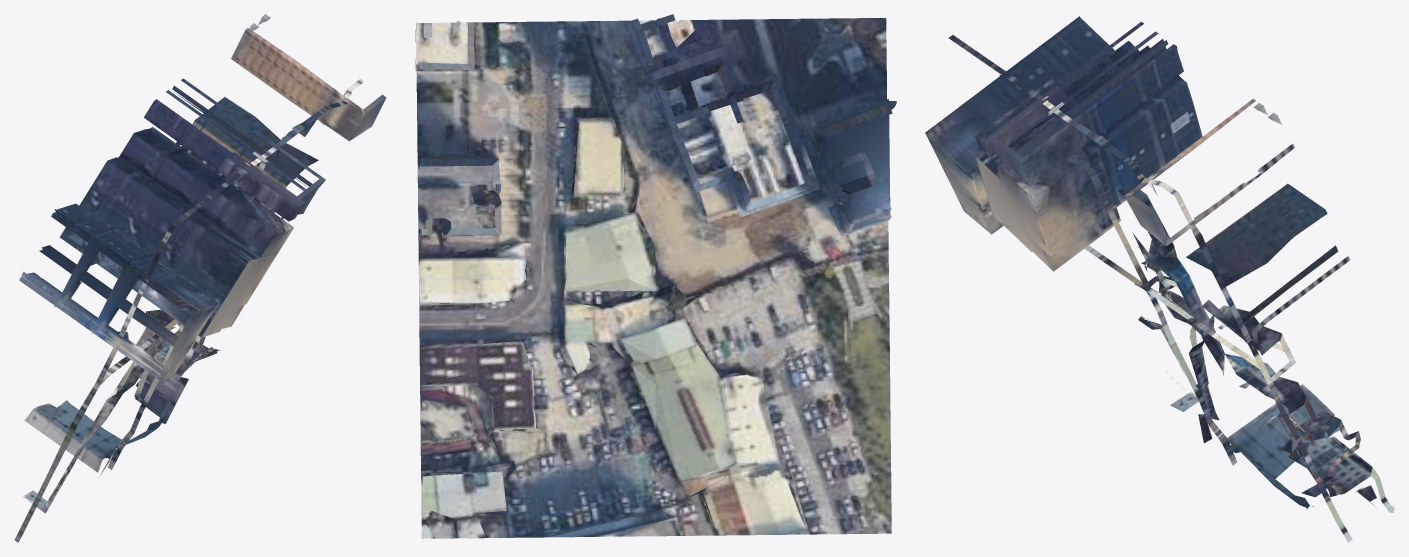
3 views of the same model, side by side, from view 1: azimuth 30°, elevation 25°; view 2: azimuth 150°, elevation 25°; view 3: azimuth 270°, elevation 25° (orthographic). The views are drawn at different scales.
Size of the model in its own units: 157 by 158 by 150.
Materials: 2 (2 with a texture image).
